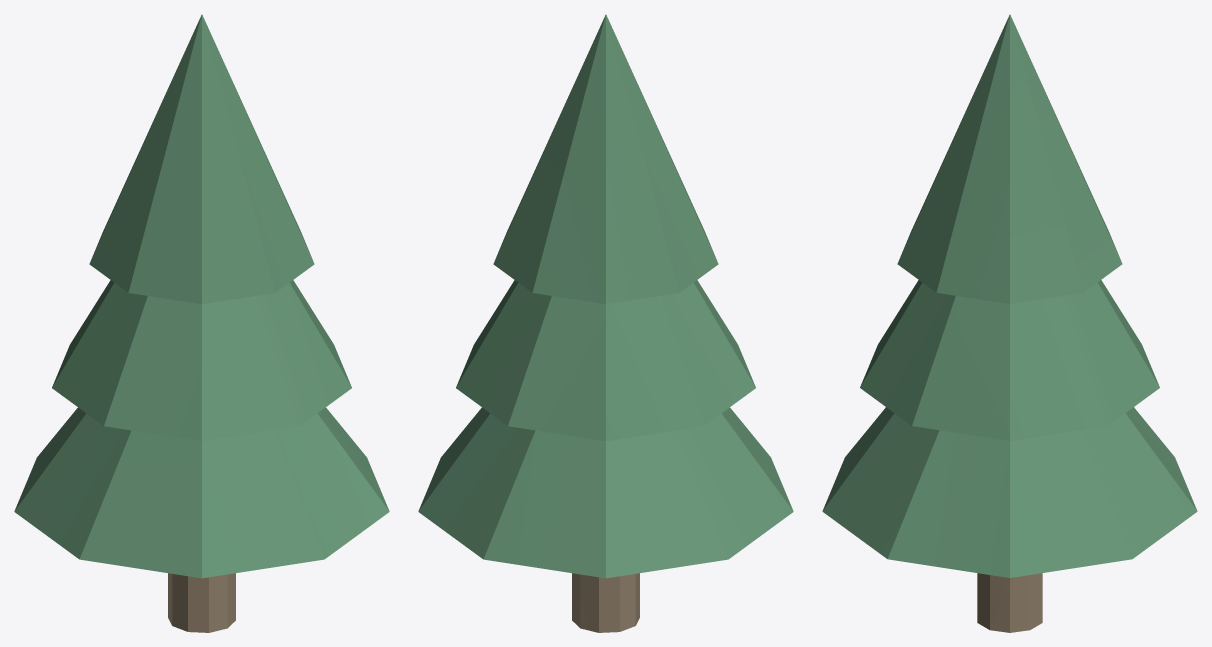
Rendered from pine-04.glb.
3 views of the same model, side by side, from view 1: azimuth 30°, elevation 25°; view 2: azimuth 150°, elevation 25°; view 3: azimuth 270°, elevation 25° (orthographic).
Parts seen in each view (by area): view 1: world; view 2: world; view 3: world.
Part boxes in pixels (box(x1,y1,x2,y2)): world: box(14, 14, 389, 632); world: box(418, 14, 793, 632); world: box(822, 14, 1197, 632).
Size of the model in its own units: 0.9698 by 1.75 by 0.9848.
